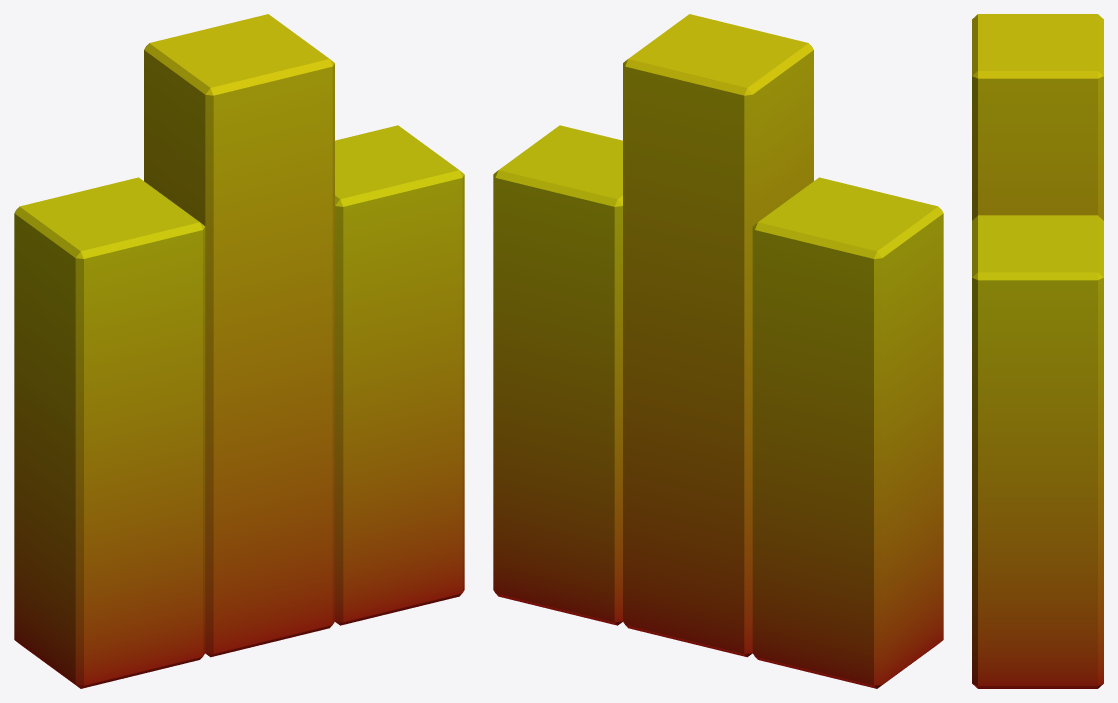
The model's file is wall_broken.glb.
3 views of the same model, side by side, from view 1: azimuth 30°, elevation 25°; view 2: azimuth 150°, elevation 25°; view 3: azimuth 270°, elevation 25° (orthographic). The views are drawn at different scales.
Visible parts, largest first — view 1: wall_broken; view 2: wall_broken; view 3: wall_broken.
Boxes of the visible parts, bbox=[...] form: wall_broken: bbox=[14, 14, 464, 688]; wall_broken: bbox=[493, 14, 943, 688]; wall_broken: bbox=[972, 14, 1103, 688].
Size of what is drawn, in the model's own units: 2 by 2.8 by 0.6.
